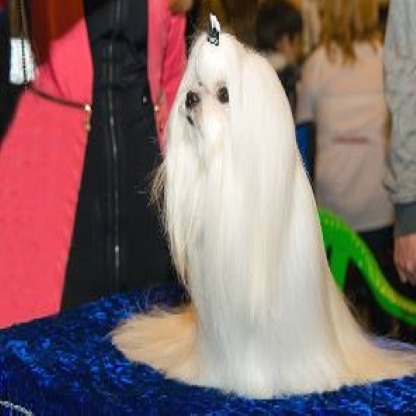maltese: (145, 13, 397, 390)
